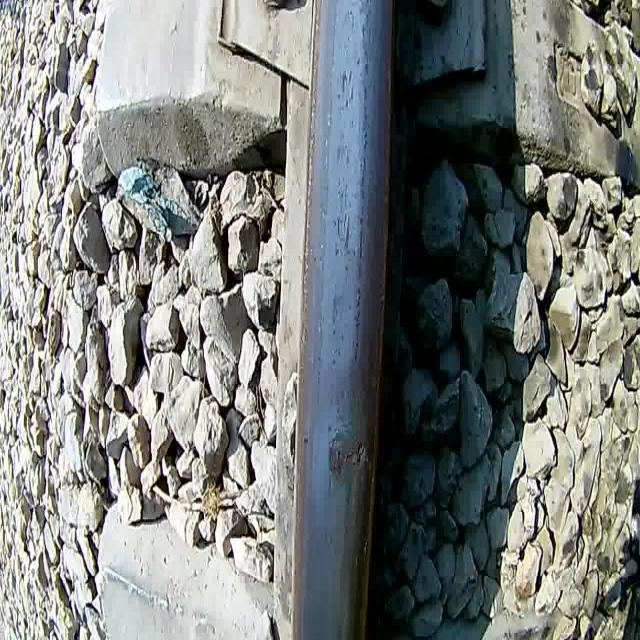Spallings: (342, 440, 368, 469)
Squats: (324, 419, 375, 489)
